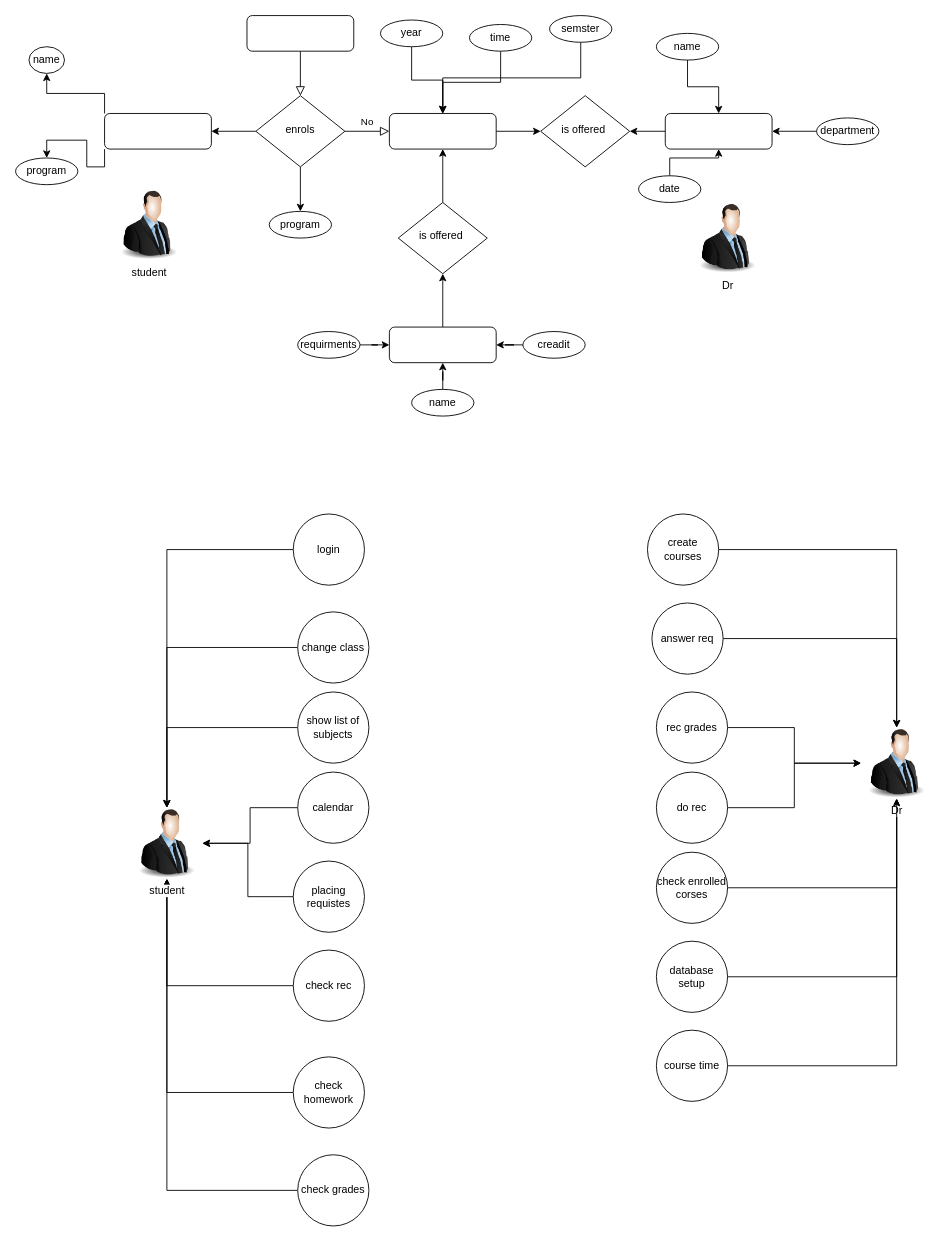
Image size: 948x1242. Some labels were removed from this diagram. The shapes that lost their labels are listed below. From the top down, each one's box as (x1, y1, x2, y2) in pixels, then its label:
(246, 15, 354, 51): Lamp doesn't work
(104, 113, 211, 149): students
(388, 113, 496, 149): couse offering
(664, 113, 772, 149): instructor
(388, 326, 496, 363): course
